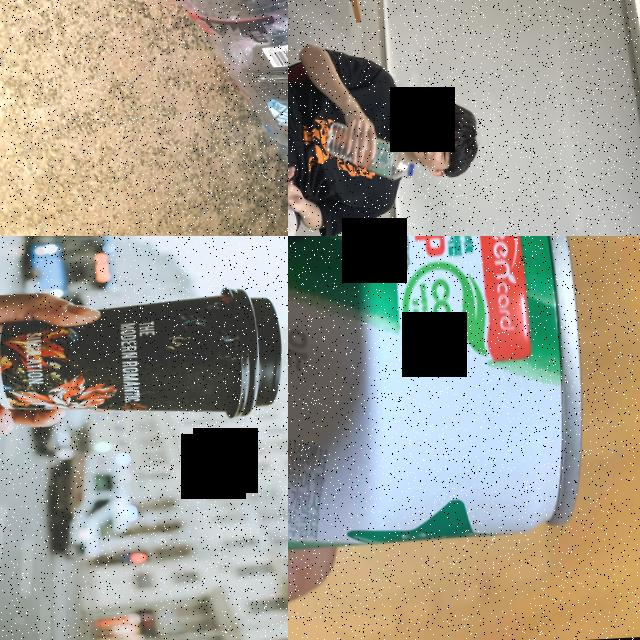bottle: (91, 0, 288, 236), (324, 116, 416, 188)
can: (288, 236, 588, 561)
cup: (0, 284, 286, 431)
